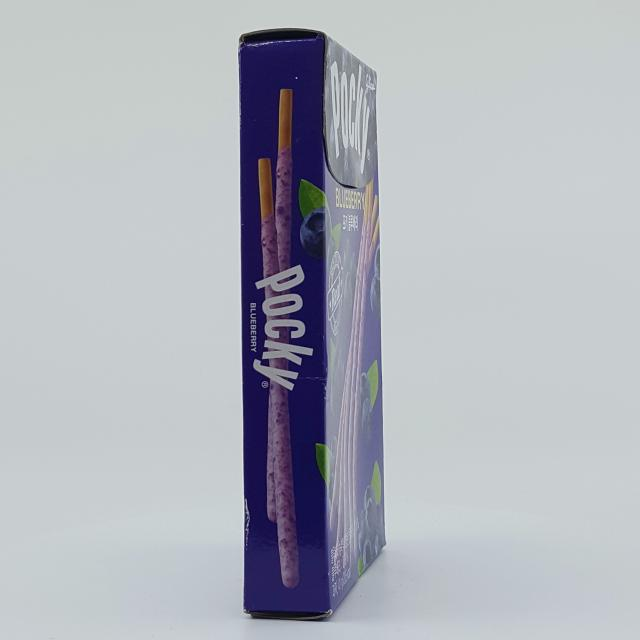-41G: (240, 29, 388, 620)
